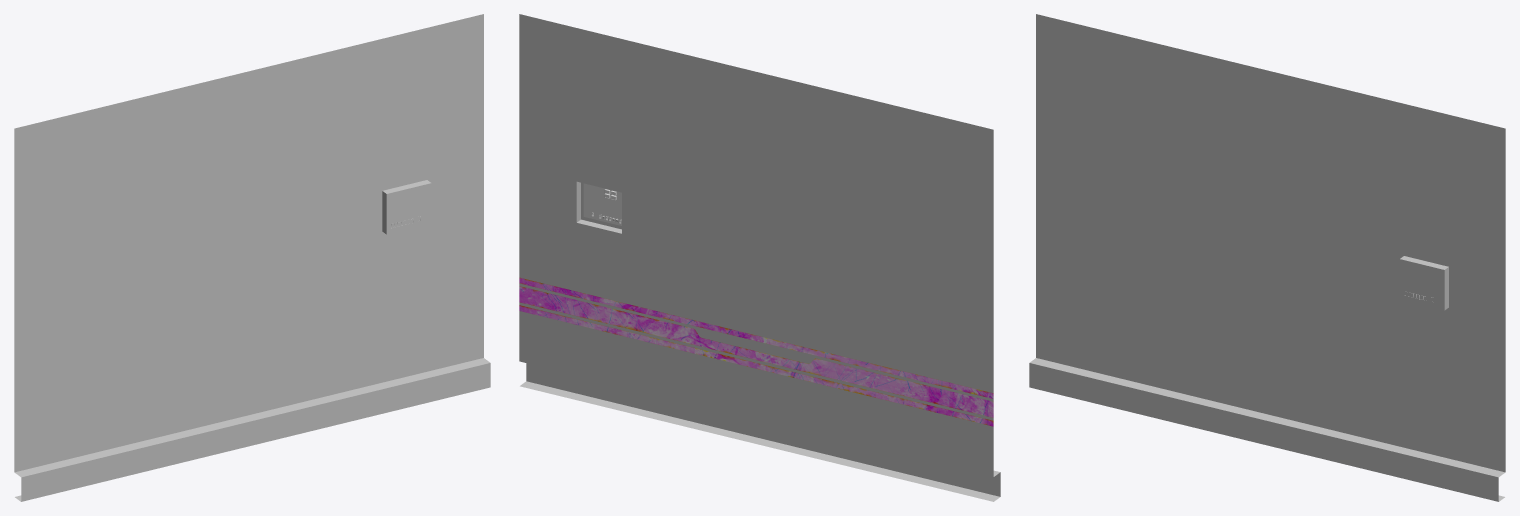
File: wall_01_4x3_f.fbx
3 views of the same model, side by side, from view 1: azimuth 30°, elevation 25°; view 2: azimuth 150°, elevation 25°; view 3: azimuth 330°, elevation 25° (orthographic).
Visible parts, largest first — view 1: Plane.329, Plane.326; view 2: Plane.329, Plane.326, Plane.328, Plane.345; view 3: Plane.329, Plane.326.
Part boxes in pixels (x1,y1,x2,y2): Plane.329: (14, 14, 483, 324); Plane.326: (14, 210, 490, 501); Plane.329: (519, 14, 993, 327); Plane.326: (519, 212, 1000, 501); Plane.328: (519, 277, 993, 426); Plane.345: (583, 183, 621, 225); Plane.329: (1036, 14, 1505, 324); Plane.326: (1029, 210, 1505, 501).
Size of the model in its own units: 4 by 3 by 0.101.
